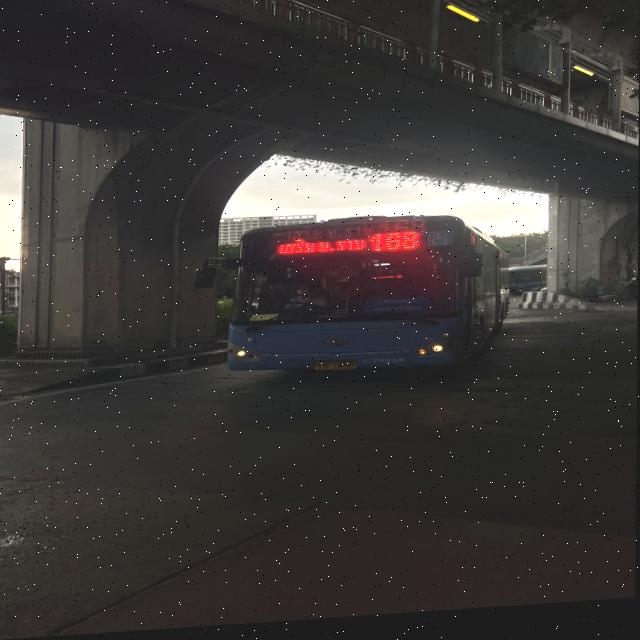BMTA-bus: (209, 214, 509, 390)
Bus-Line-Number: (369, 234, 424, 258)
Destination-Sign-Normal: (367, 302, 428, 323)
